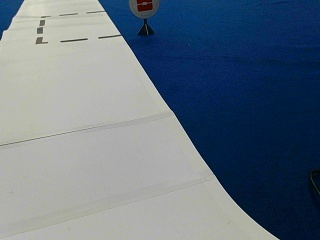company: (129, 0, 159, 18)
